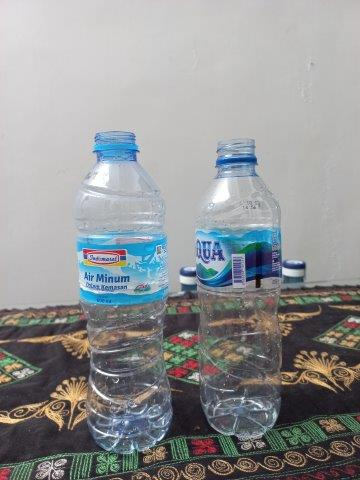botolplastik: (75, 131, 172, 453), (195, 138, 283, 436)
